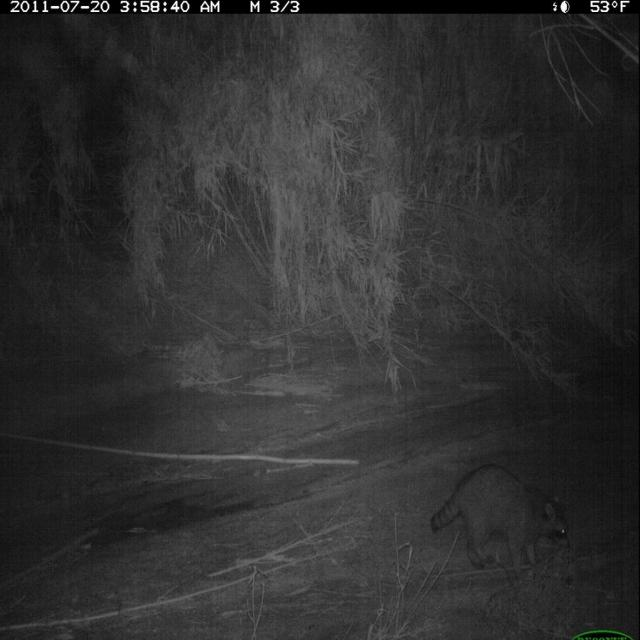raccoon: (425, 458, 578, 584)
